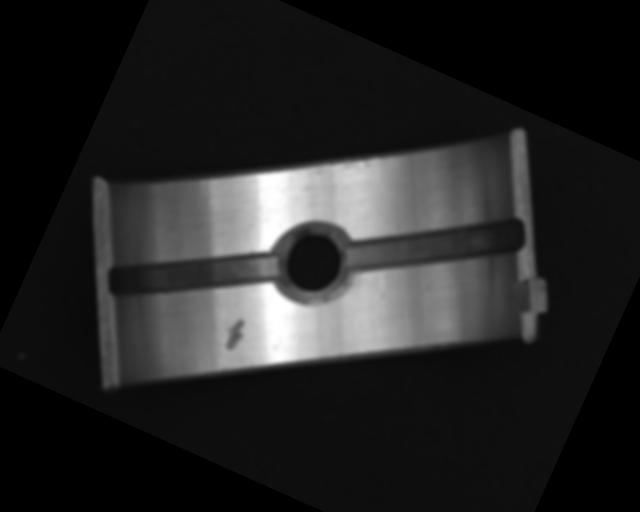bruise: (216, 313, 250, 355)
gap: (342, 160, 531, 329), (101, 198, 284, 354)
hole: (266, 215, 360, 316)
nick: (361, 271, 401, 323)
